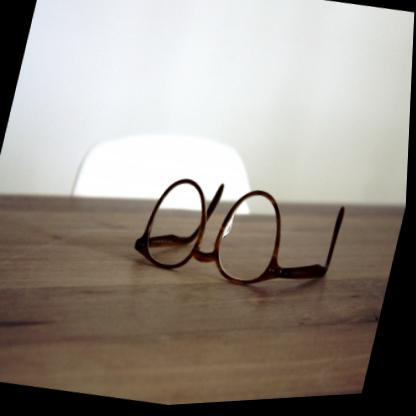Spectacles: (129, 161, 356, 310)
